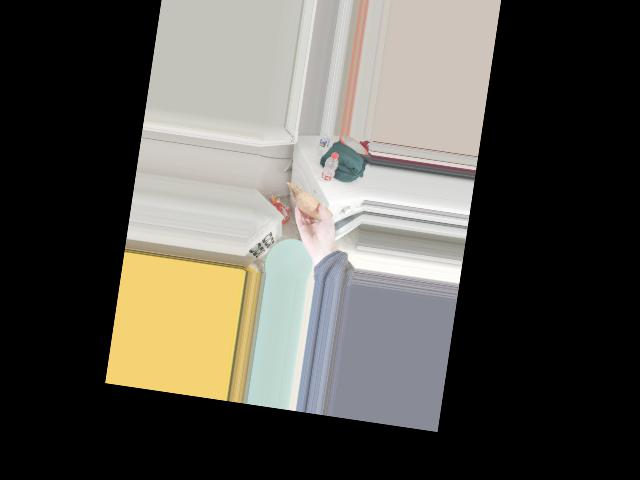sweet_potato: (294, 190, 331, 226)
